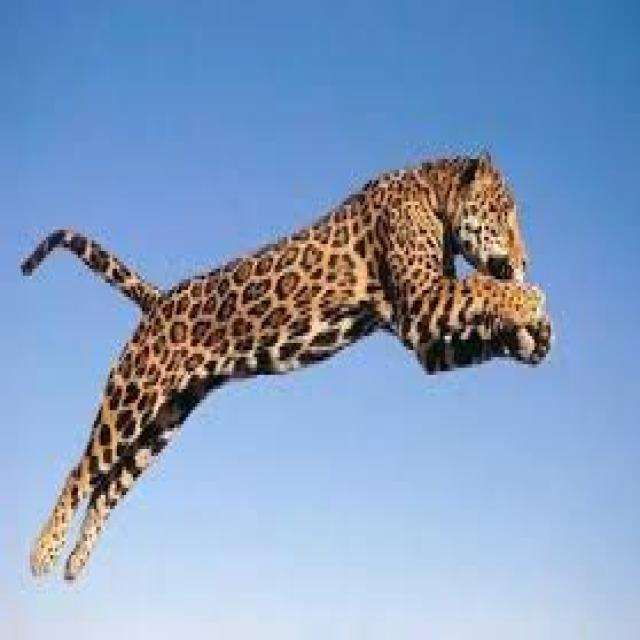Jaguar: (23, 159, 532, 513)
